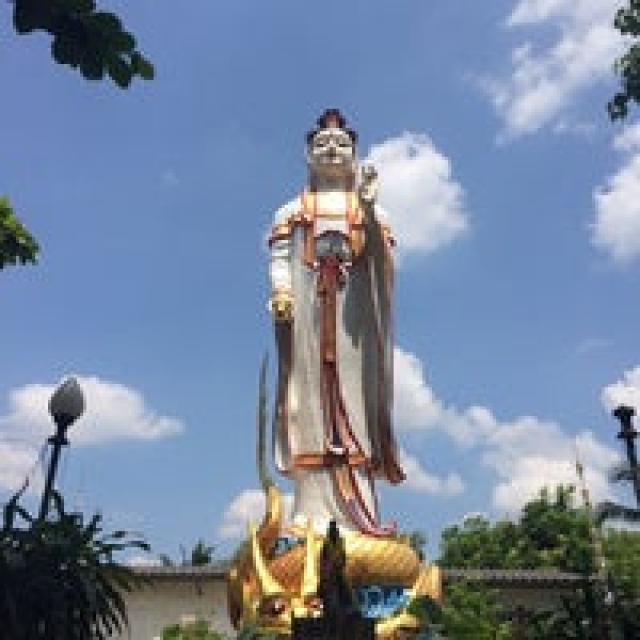Guan Yin: (262, 104, 398, 456)
